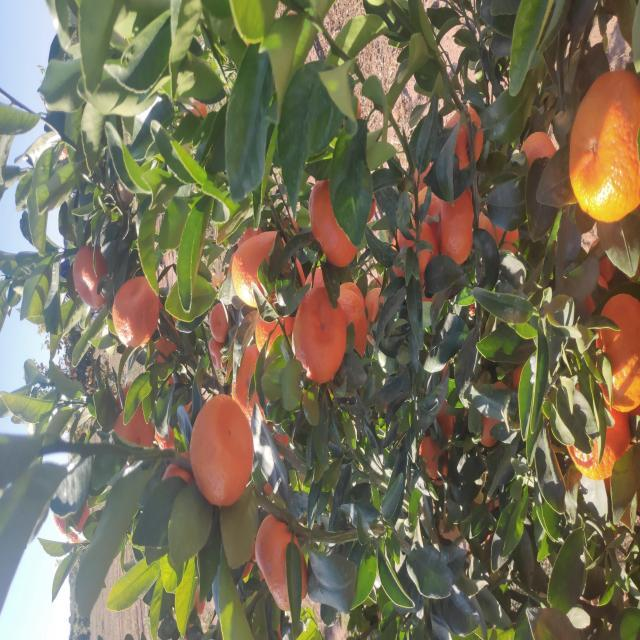Jeruk Sudah Matang: (418, 569, 570, 640), (136, 189, 244, 254), (227, 595, 347, 640), (160, 566, 244, 630), (29, 254, 128, 308), (258, 292, 352, 347), (372, 308, 462, 359), (334, 232, 409, 286), (338, 391, 420, 437), (292, 113, 364, 160), (375, 439, 458, 474), (193, 112, 260, 154), (468, 443, 534, 483), (280, 337, 360, 368), (332, 73, 394, 109), (384, 478, 436, 520), (386, 411, 456, 440), (193, 480, 258, 511), (282, 255, 330, 295), (99, 54, 141, 90), (469, 520, 508, 557), (156, 418, 204, 448), (294, 365, 354, 387), (200, 436, 242, 456), (296, 210, 336, 228), (269, 210, 304, 224), (250, 512, 278, 526)
